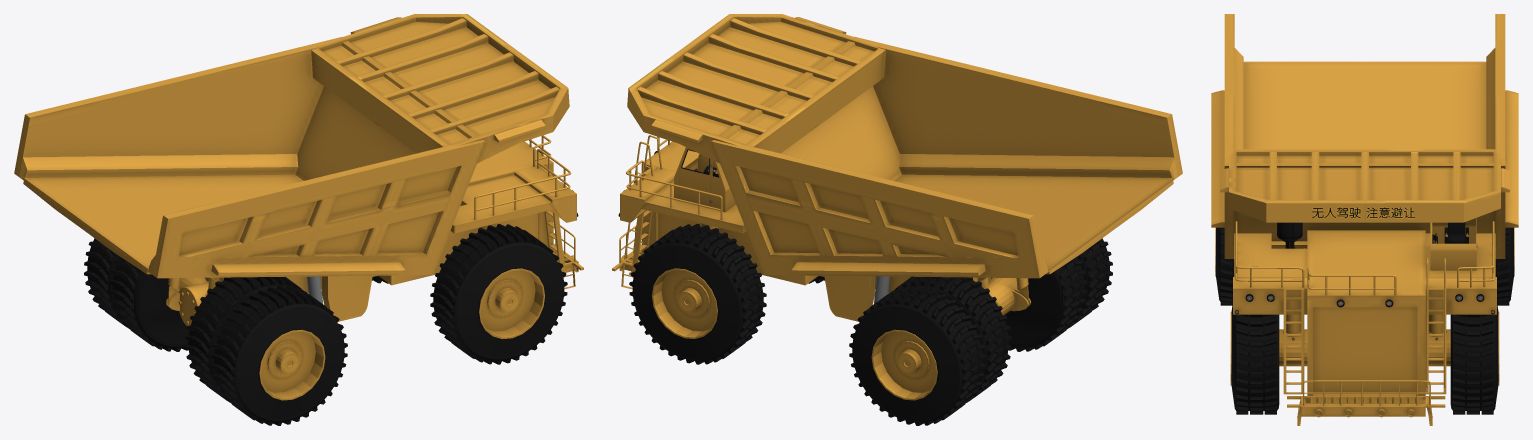
The model's file is maintruk_jiaotongche.fbx.
3 views of the same model, side by side, from view 1: azimuth 30°, elevation 25°; view 2: azimuth 150°, elevation 25°; view 3: azimuth 270°, elevation 25° (orthographic). The views are drawn at different scales.
Parts seen in each view (by area): view 1: maintruk_jiaotongche; view 2: maintruk_jiaotongche; view 3: maintruk_jiaotongche.
Part boxes in pixels (x1,y1,x2,y2): maintruk_jiaotongche: [14, 14, 583, 425]; maintruk_jiaotongche: [612, 14, 1182, 425]; maintruk_jiaotongche: [1211, 14, 1518, 425].
Size of the model in its own units: 10.47 by 5.28 by 6.11.
Materials: 1 (1 with a texture image).
